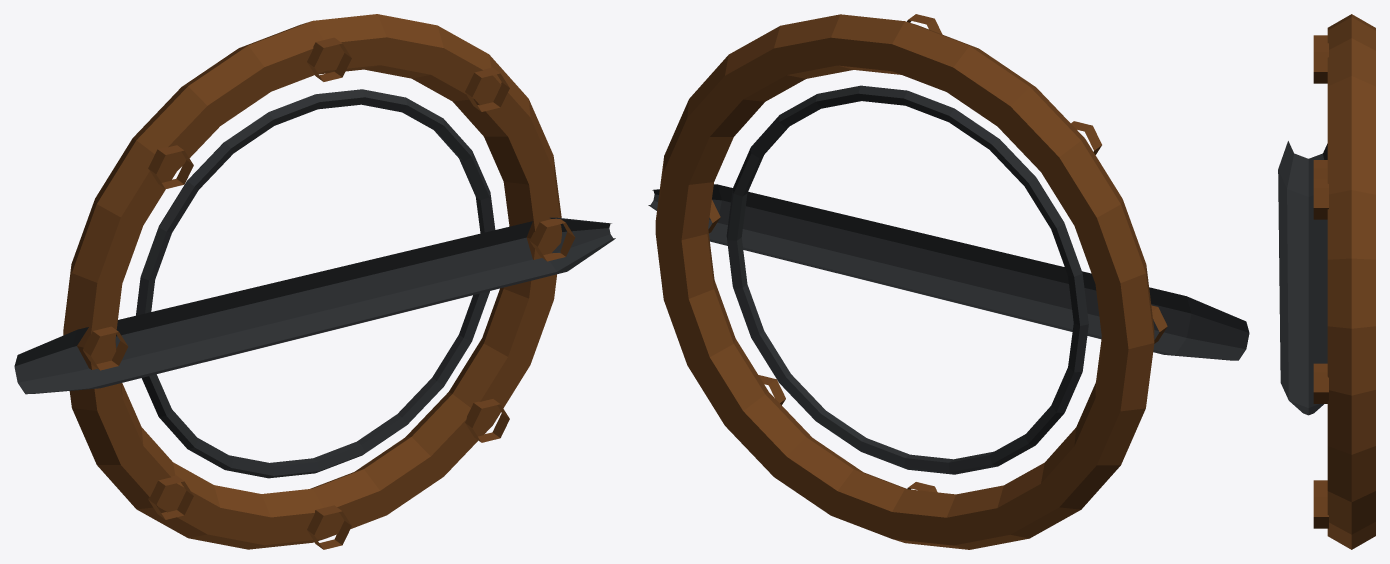
File: clasp_LOD1.obj
3 views of the same model, side by side, from view 1: azimuth 30°, elevation 25°; view 2: azimuth 150°, elevation 25°; view 3: azimuth 270°, elevation 25° (orthographic). The views are drawn at different scales.
Visible parts, largest first — view 1: RatiborCloakClasp; view 2: RatiborCloakClasp; view 3: RatiborCloakClasp.
Part boxes in pixels (x1,y1,x2,y2): RatiborCloakClasp: (14, 14, 615, 549); RatiborCloakClasp: (648, 14, 1249, 549); RatiborCloakClasp: (1278, 14, 1375, 549).
Bounding box in the file's own units: 0.25 × 0.212 × 0.0385.
